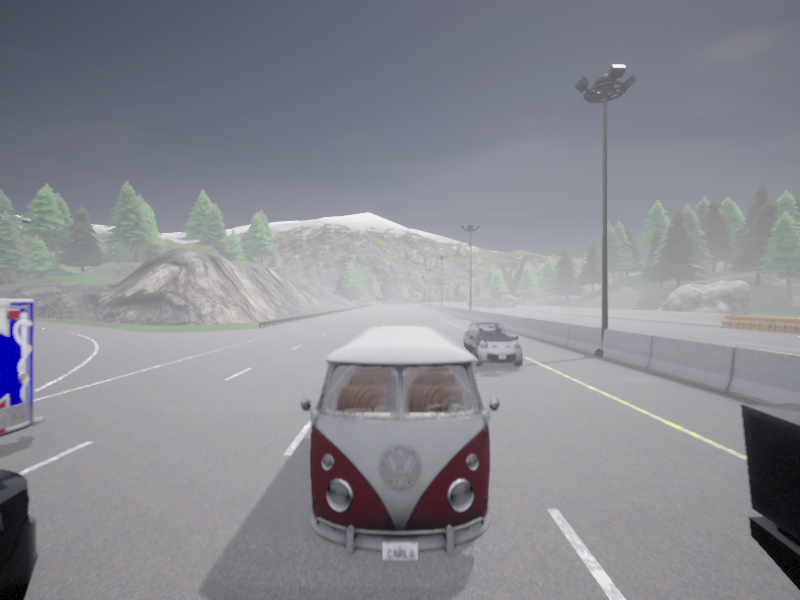vehicle: (300, 325, 499, 559), (740, 403, 799, 590), (0, 299, 45, 437), (0, 468, 38, 599), (463, 322, 522, 366)
